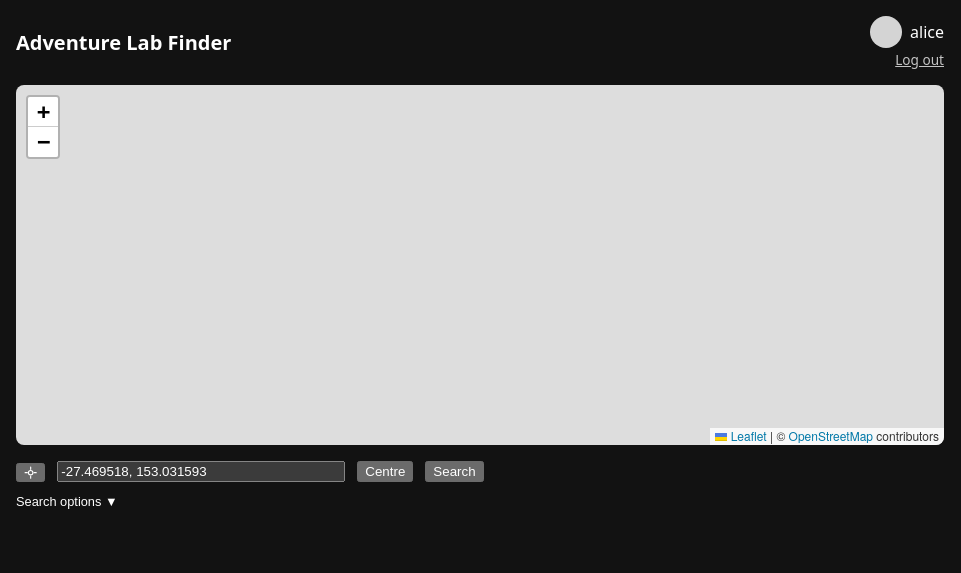
it: App › clears the session and redirects to login when logging out
Click the button "Log out". click: (920, 60)
box: [895,50,944,69]
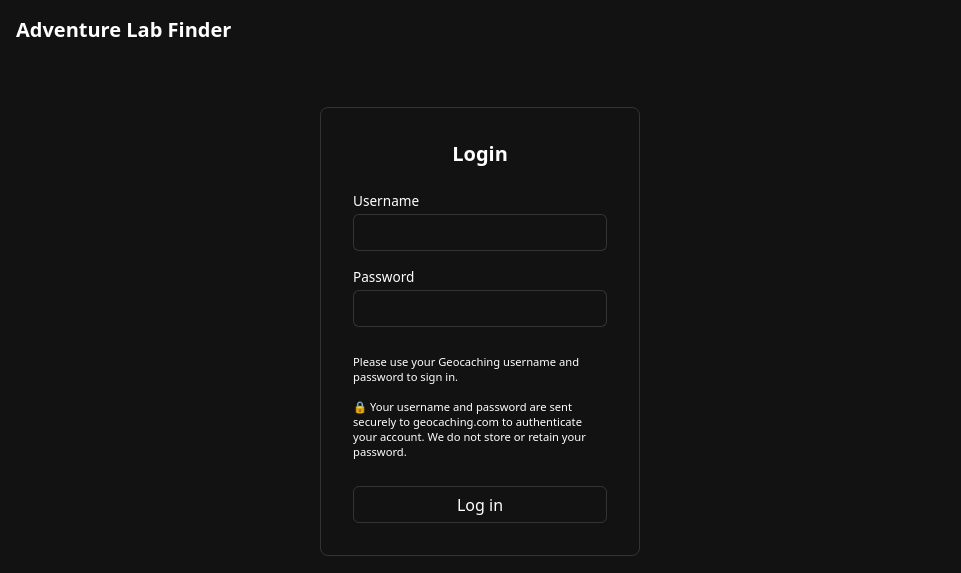
Expected: the heading "Login" is shown, [452,140,508,167]
